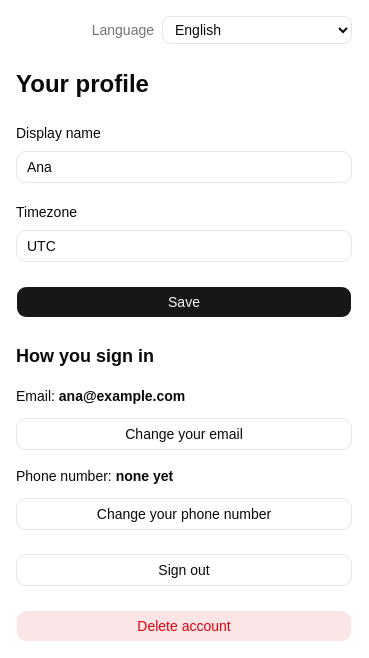
Test: App › signs a visitor out of this tab even when the sign-out request never arrives
Click the button "Sign out".
click(184, 570)  # box [16, 554, 352, 586]
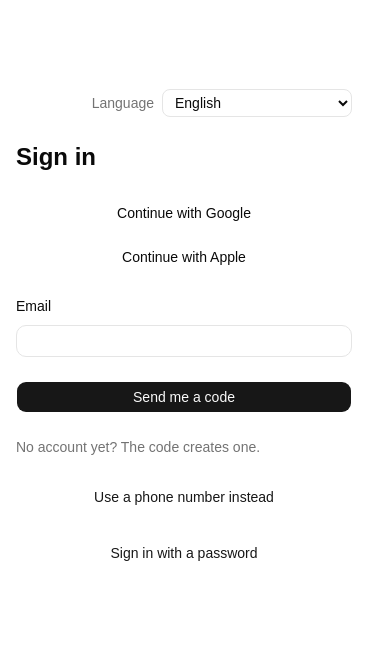
Result: the heading "Sign in" is shown at [16, 143, 96, 170]
